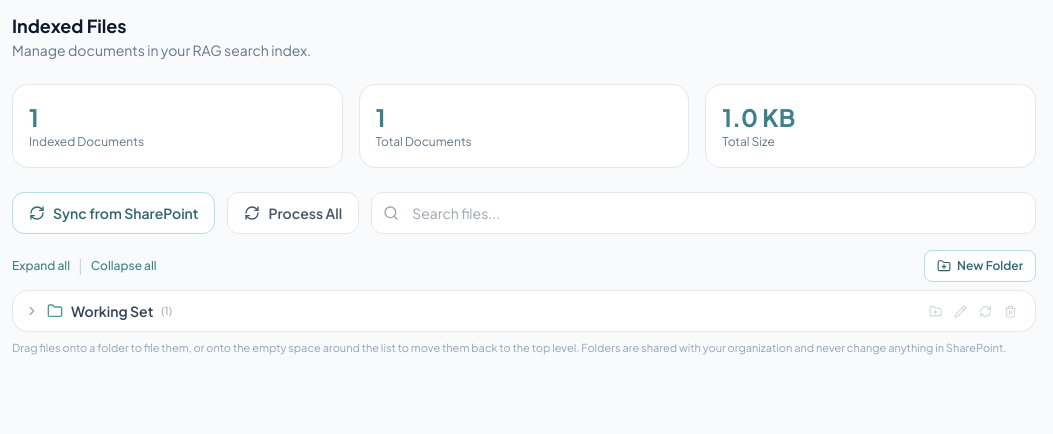
Scenario: IndexedFilesTab › places a filed document inside its folder
Expected: the text "(1)" is shown, [161,303,172,319]
Click the button "Working Set (1)" at (112, 311), box [13,291,923,331]
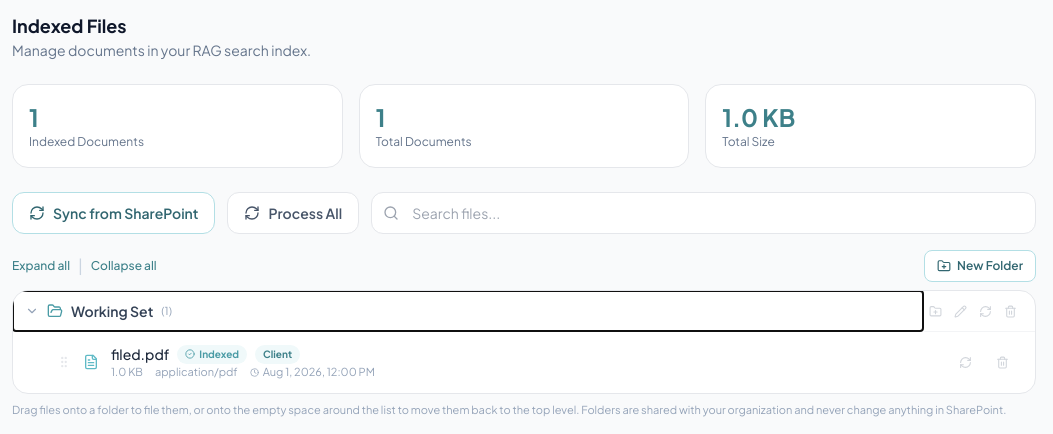
Expected: the text "filed.pdf" is shown, [111,344,169,364]
